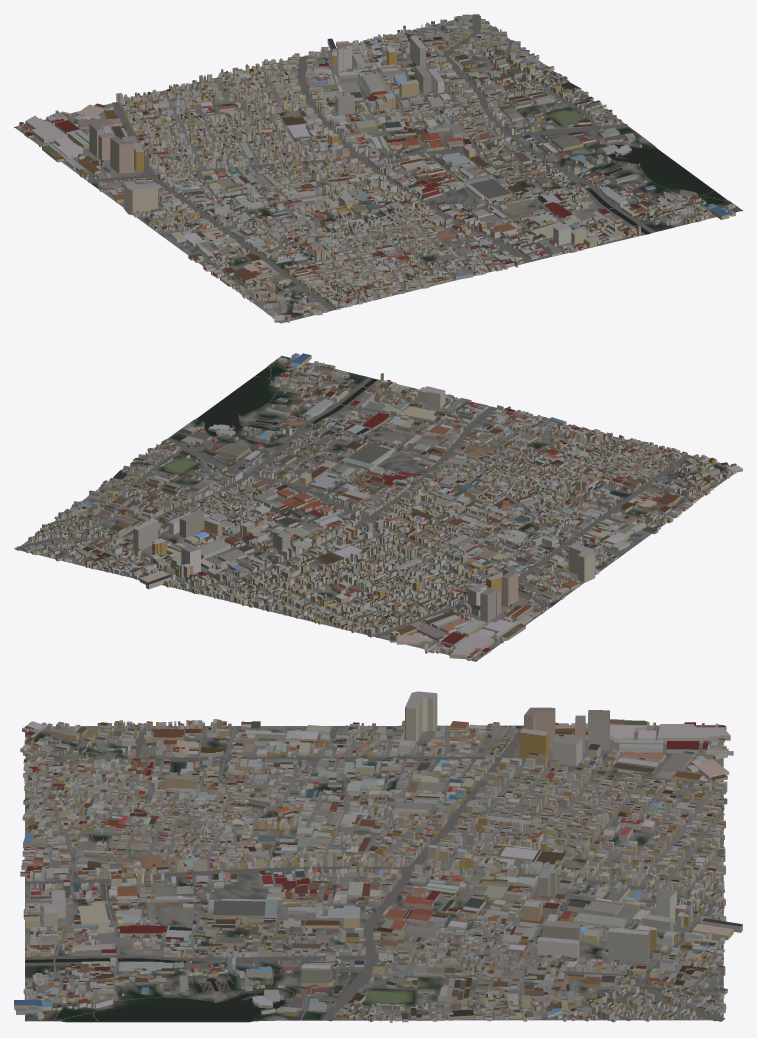
3 renders of one model, top to bottom at view 1: azimuth 30°, elevation 25°; view 2: azimuth 150°, elevation 25°; view 3: azimuth 270°, elevation 25°, orthographic. The views are drawn at different scales.
Visible parts, largest first — view 1: buildings, ground, roads, water; view 2: buildings, ground, roads, water; view 3: buildings, ground, roads, water.
Part boxes in pixels (left/top/right/bottom): buildings: left=17, top=14, right=735, bottom=322; ground: left=14, top=15, right=742, bottom=323; roads: left=30, top=14, right=732, bottom=317; water: left=586, top=145, right=726, bottom=234; buildings: left=23, top=353, right=742, bottom=660; ground: left=15, top=355, right=733, bottom=661; roads: left=14, top=362, right=726, bottom=654; water: left=197, top=367, right=377, bottom=436; buildings: left=14, top=691, right=742, bottom=1022; ground: left=25, top=725, right=723, bottom=1022; roads: left=24, top=725, right=725, bottom=1021; water: left=25, top=958, right=285, bottom=1021.
Bounding box in the file's own units: 1422 × 90.62 × 1462.
